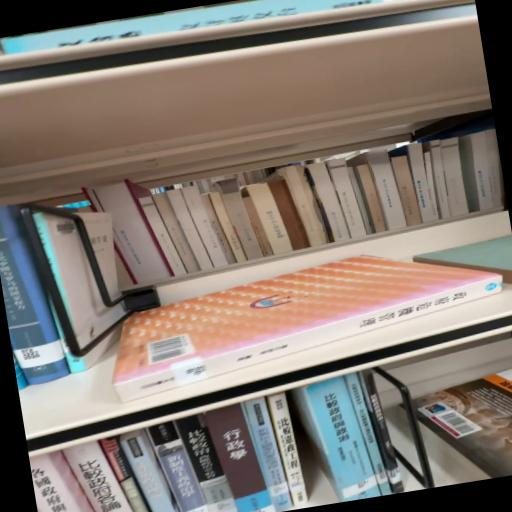flat: (113, 255, 504, 402), (415, 370, 512, 479), (414, 235, 512, 284)
